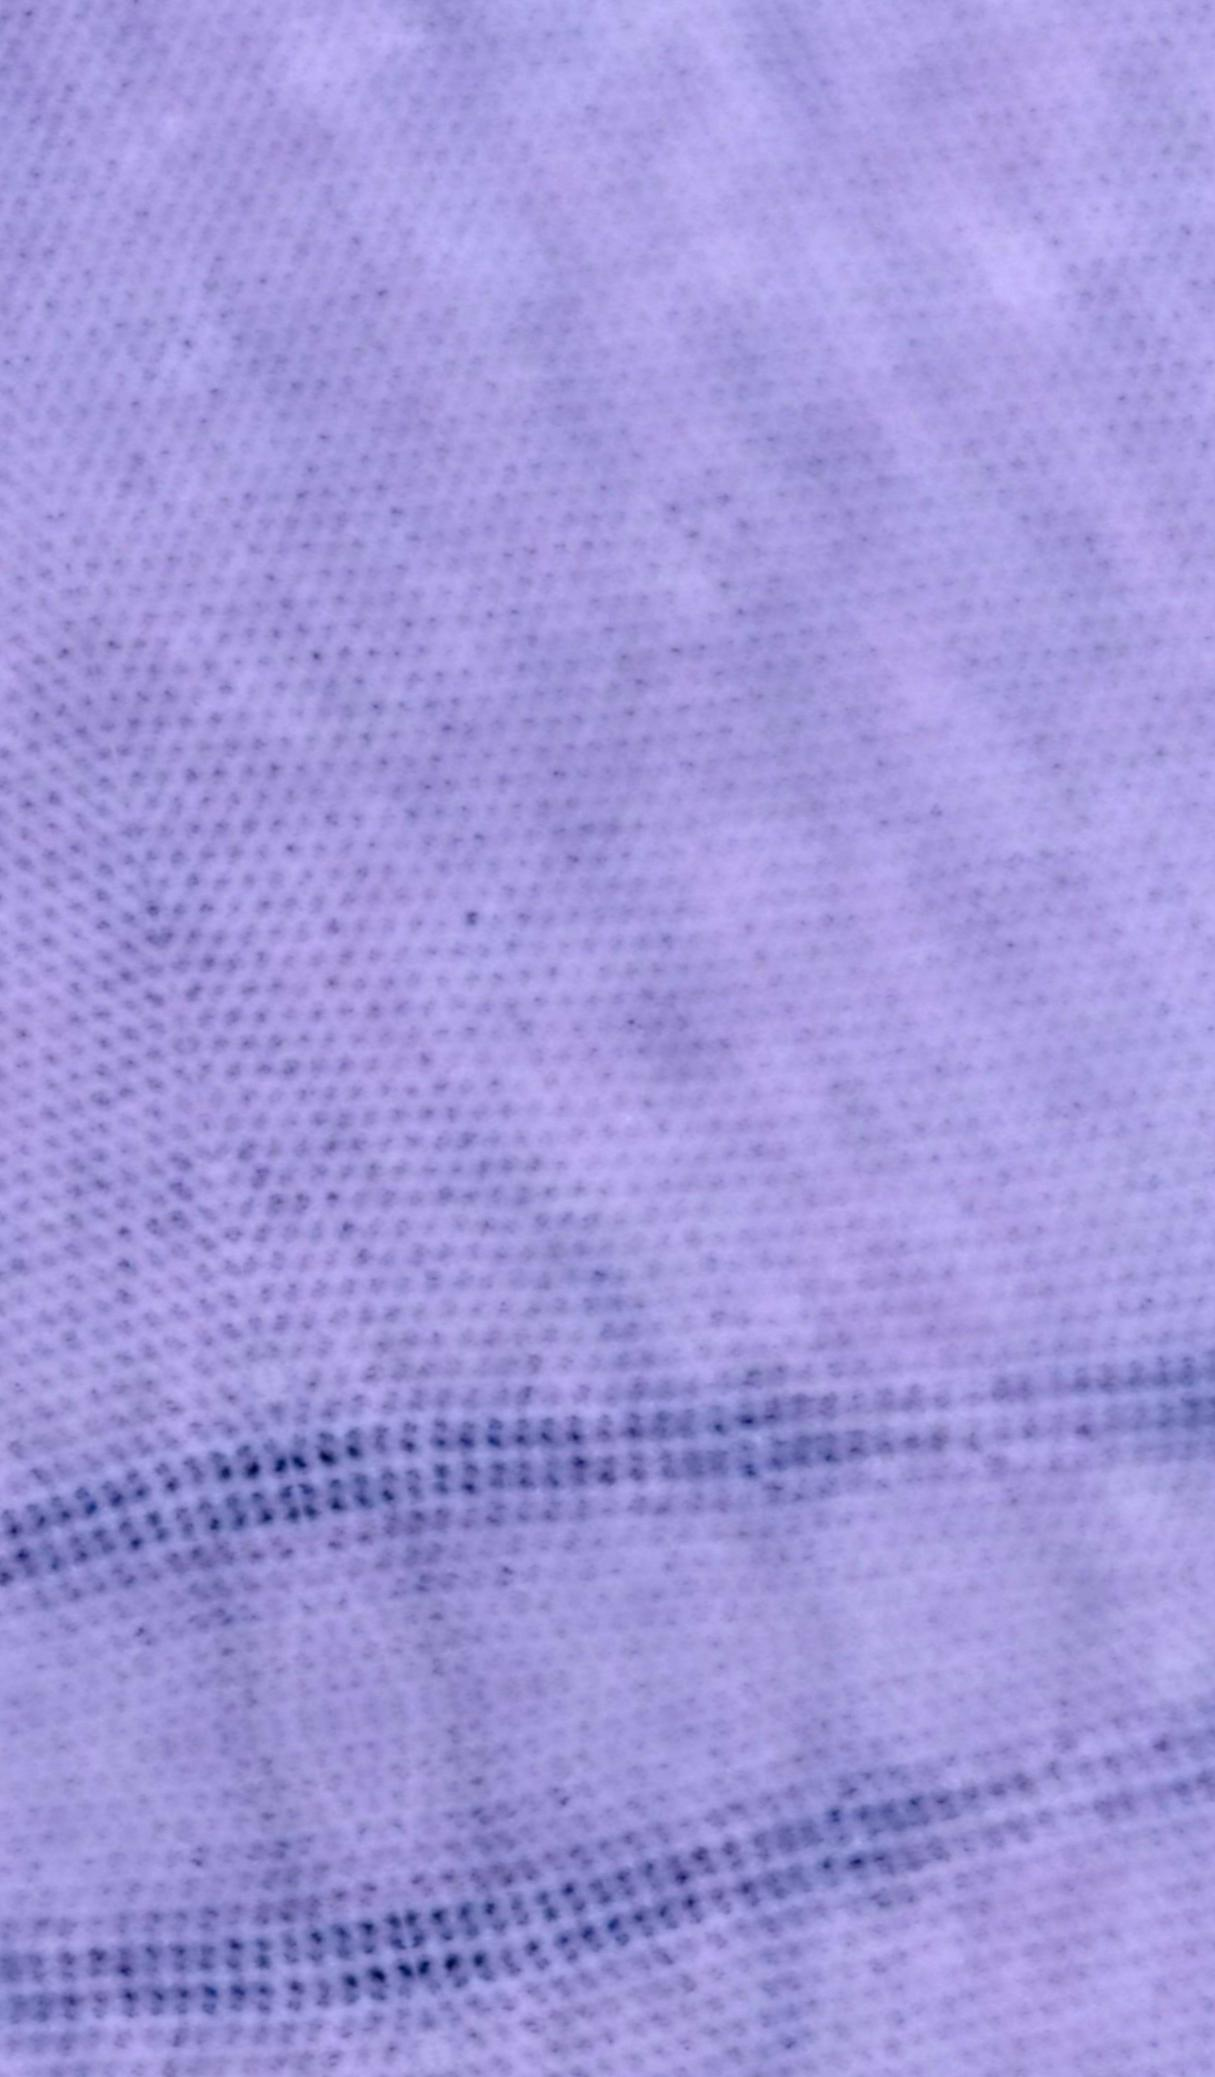slub: (9, 1707, 1215, 2060), (14, 1332, 1212, 1607)
